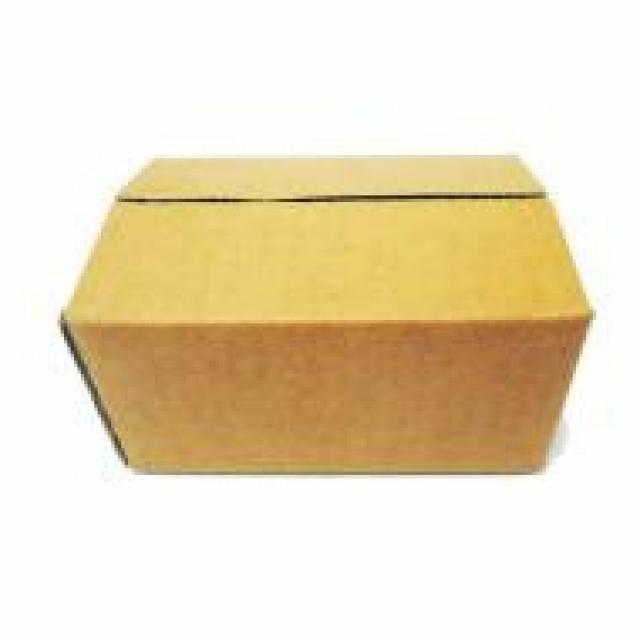box: (52, 130, 606, 497)
